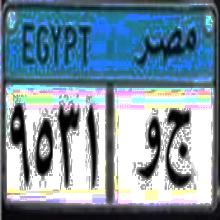1: (86, 96, 102, 189)
3: (57, 96, 81, 186)
5: (34, 100, 55, 178)
9: (10, 97, 32, 186)
jeem: (165, 104, 195, 192)
waw: (137, 115, 162, 182)
